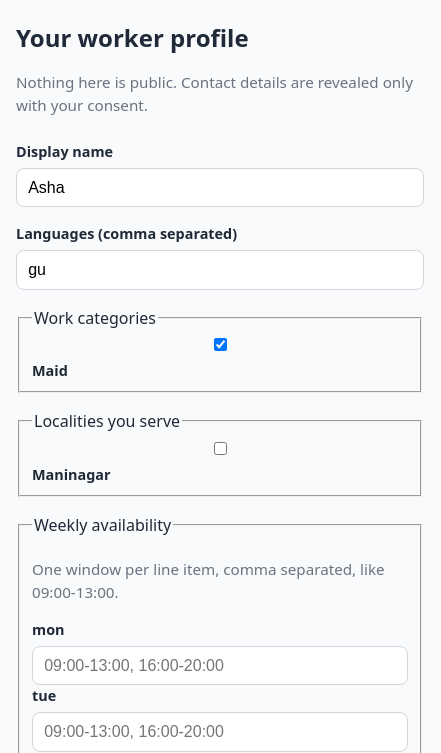
worker save carries localities and availability
Click the checkbox labelled "Maninagar": (220, 448) [36,442,405,455]
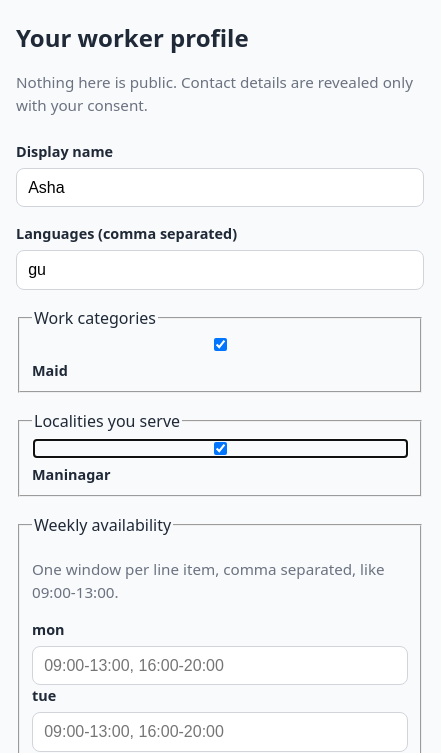
In the field with placeholder "09:00-13:00, 16:00-20:00": (220, 666) [32,646,408,685], type "09:00-13:00"
(page scrolled)
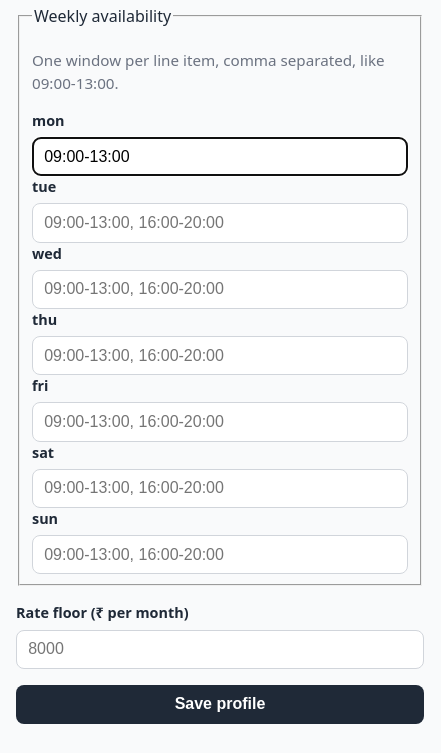
Click the button "Save profile": (220, 704) [16,685,424,724]
(page scrolled)
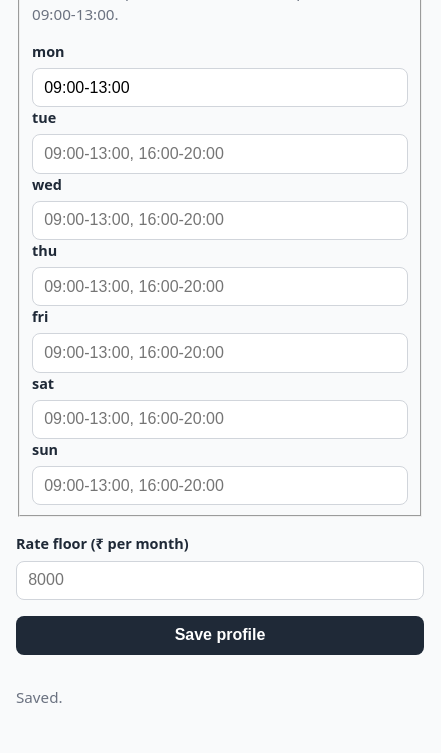
Result: the text "Saved." is shown at [16,687,63,707]
